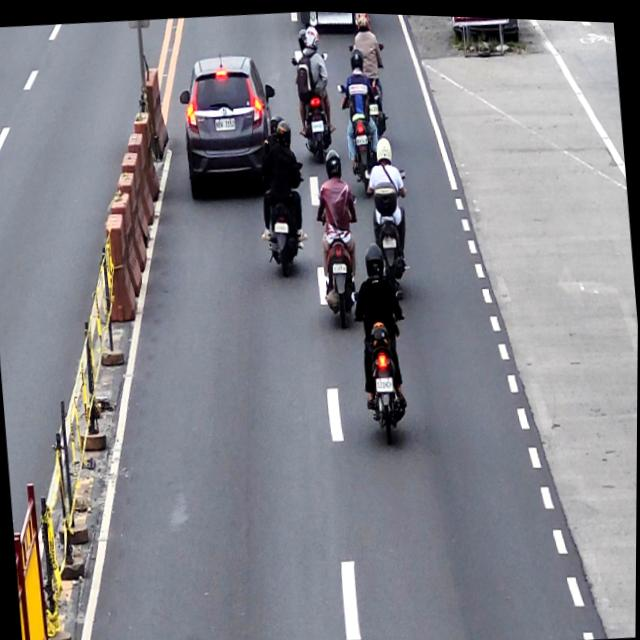Car: (176, 47, 280, 203)
License-Plate: (213, 112, 239, 132), (375, 372, 395, 393), (331, 256, 350, 272)
Motorcycle: (346, 241, 410, 444), (254, 106, 309, 280), (312, 149, 363, 331), (367, 139, 411, 279), (343, 45, 385, 184), (295, 22, 332, 156)
